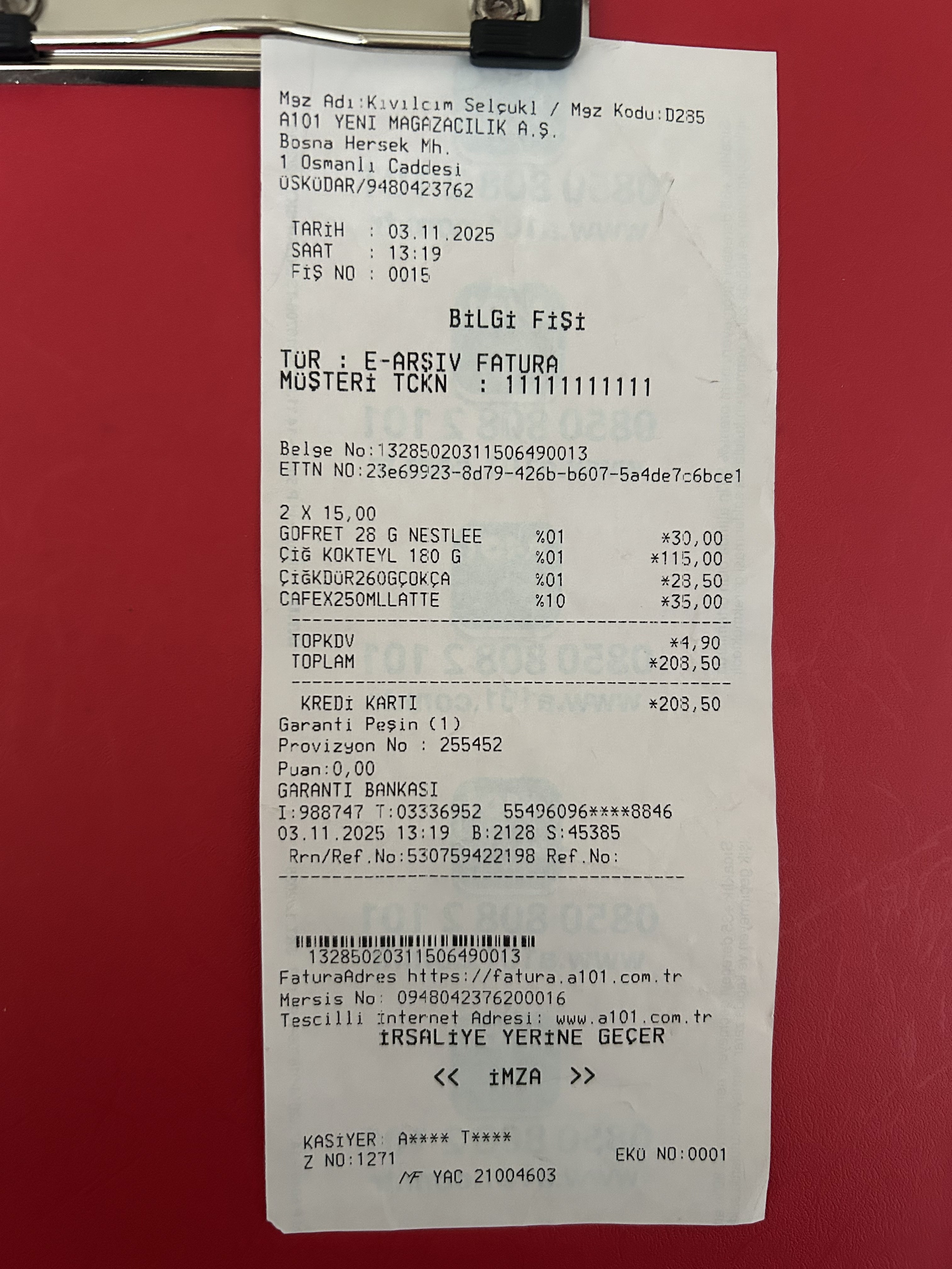date: (657, 651, 732, 676)
price: (384, 218, 499, 244)
workplace: (270, 85, 714, 177)
